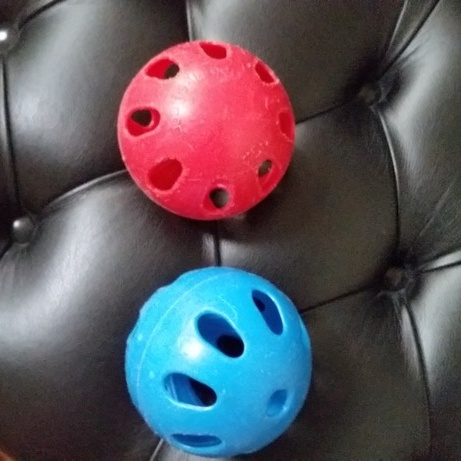ball: (123, 264, 316, 458), (106, 37, 302, 226)
